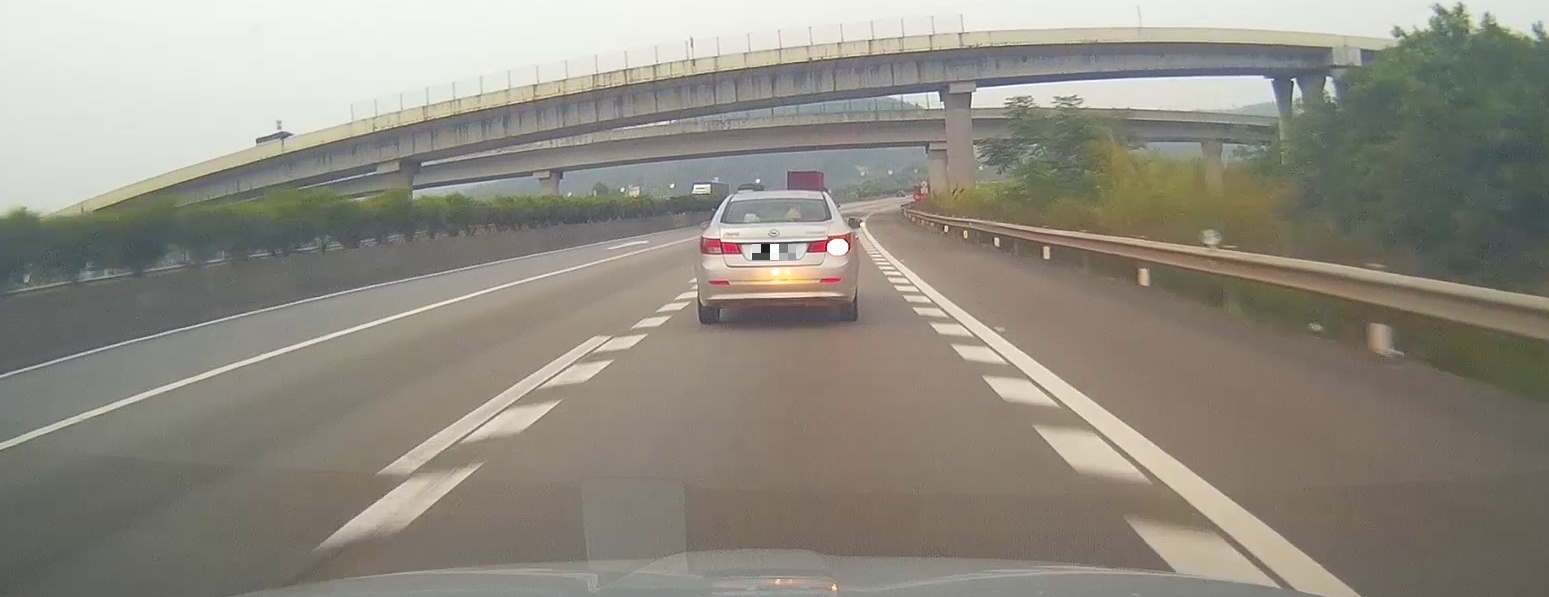L_light: (699, 235, 742, 255)
R_light: (806, 232, 852, 253)
T_light: (761, 218, 794, 222)
day-right: (696, 190, 857, 324)
plate_1: (752, 244, 796, 260)
